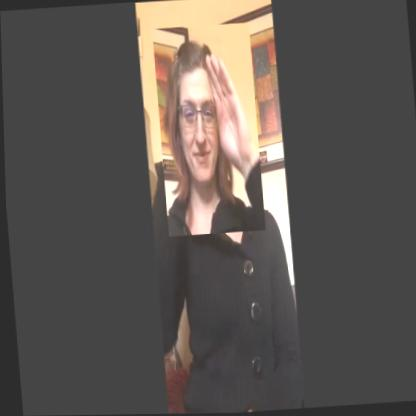Hello: (151, 23, 264, 237)
